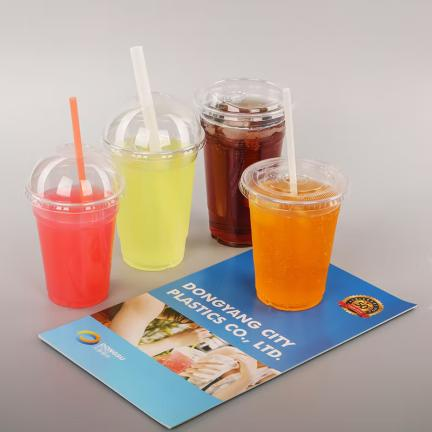container: (104, 95, 204, 271), (239, 157, 346, 310), (193, 78, 285, 247)
fluid: (199, 115, 285, 247), (109, 153, 198, 270), (249, 202, 341, 311), (33, 207, 118, 308)
fluid-surface: (249, 179, 341, 216), (33, 186, 120, 223), (111, 136, 198, 171), (201, 101, 286, 129)
